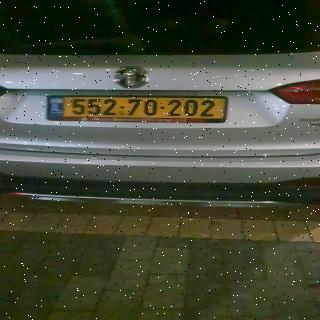LicensePlate: (64, 97, 225, 117)
